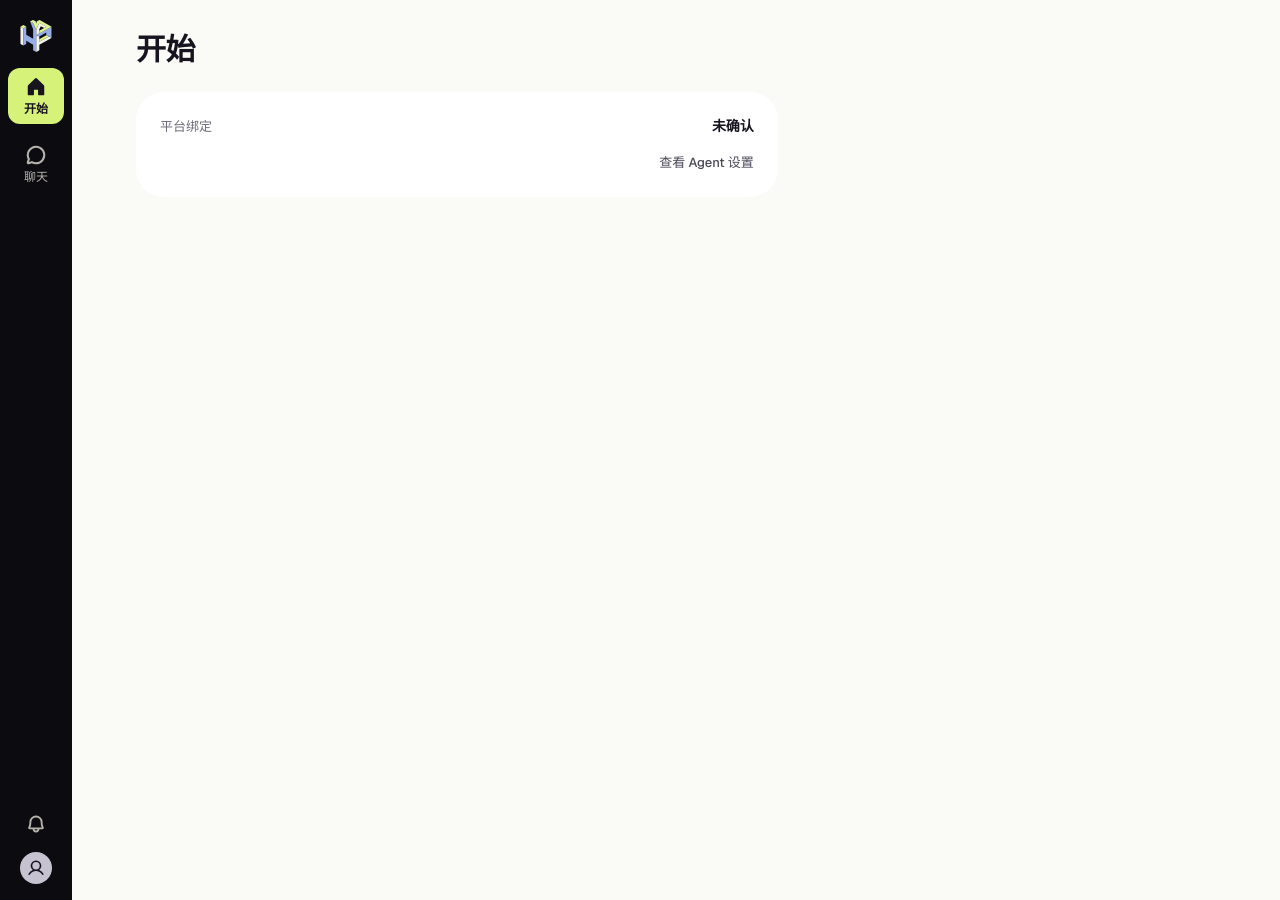
connections fixture page › keeps one page h1 and one heading per module inside its surface
Click the button named "我的账号与 Agent 设置菜单" at (36, 868), box [16,848,56,888]
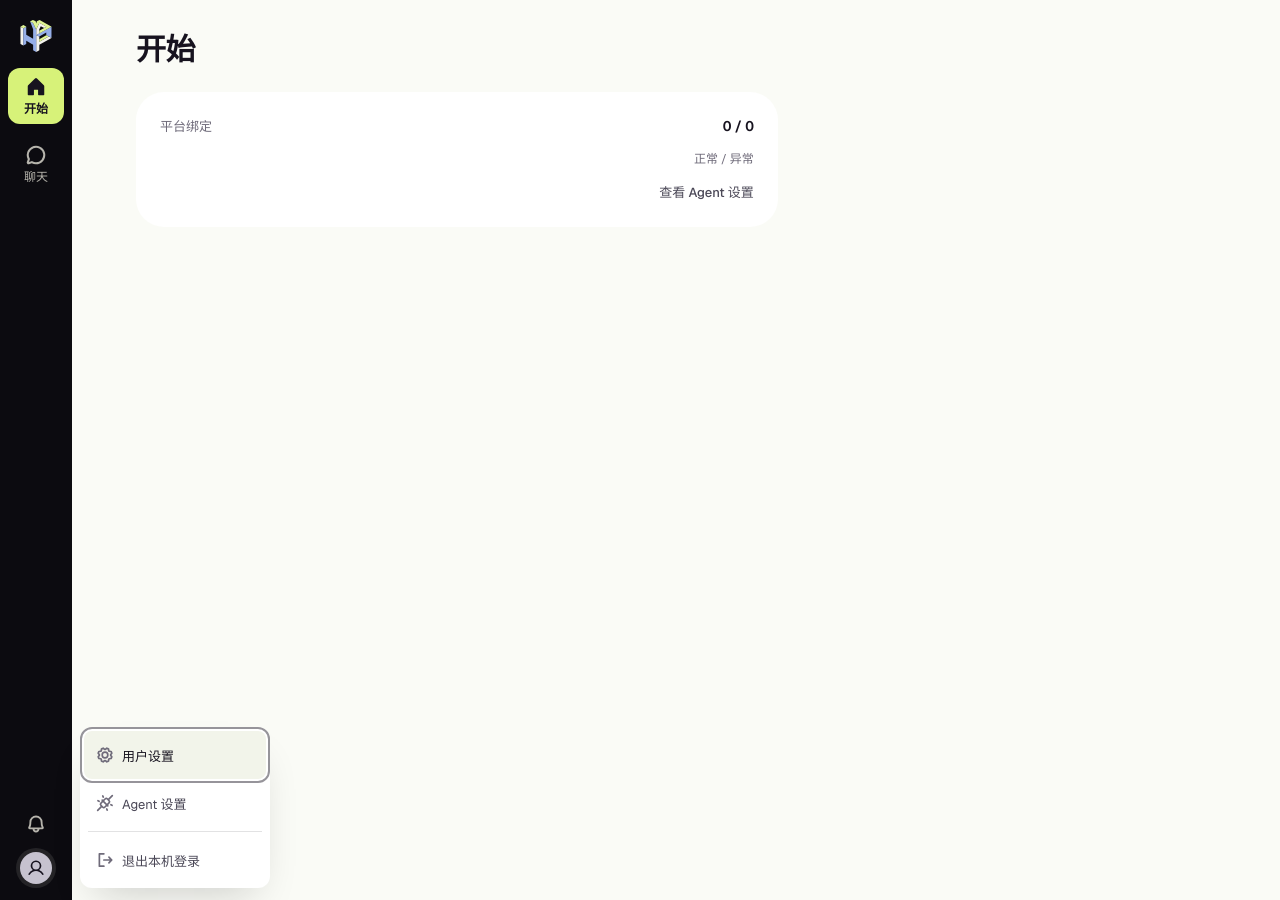
Click the menu item "Agent 设置" at (175, 803), box [84,779,266,827]
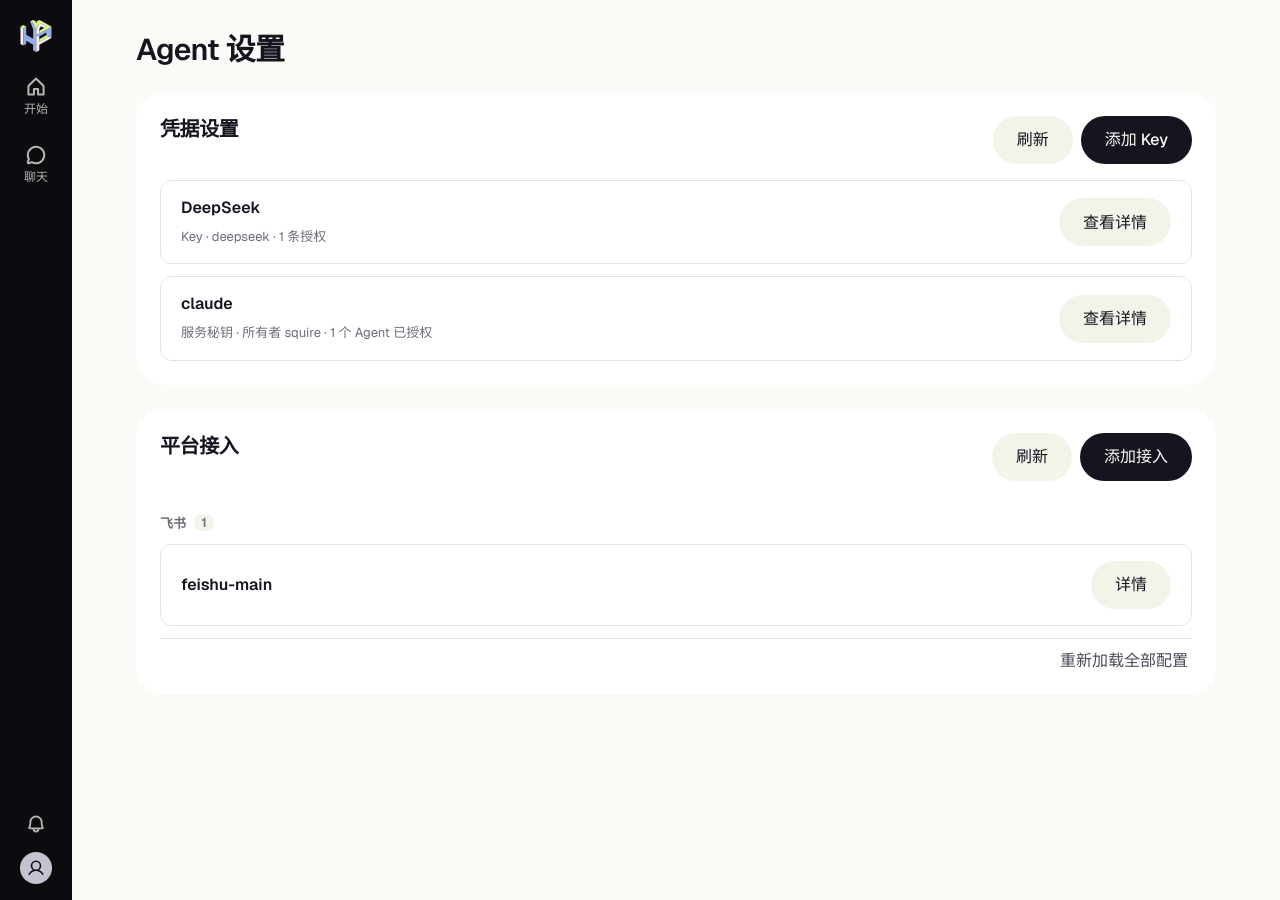
Expected: the heading "Agent 设置" is shown, [136,30,284,69]
Expected: the heading "凭据设置" is shown, [160,116,238,143]
Expected: the heading "平台接入" is shown, [160,433,238,460]
